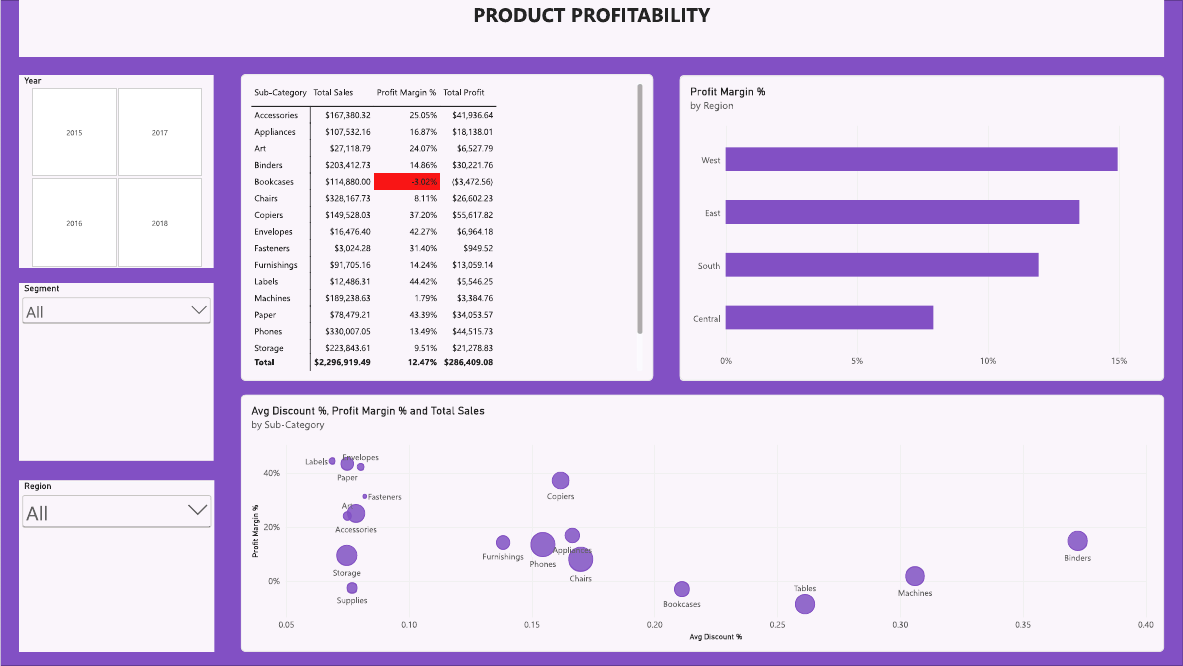

This screenshot's page, from the dashboard's own definition file:
{"tool":"powerbi","page":{"name":"Product Profitability","canvas":[1920,1080],"ordinal":1},"visuals":[{"type":"shape","box":[0,0,1920,1080],"z":0},{"type":"pivotTable","fields":{"Rows":["Dim_Product.Sub-Category"],"Values":["Fact_Orders.Total Sales","Fact_Orders.Profit Margin %","Fact_Orders.Total Profit"]},"box":[390,120,670,496.7],"z":1000},{"type":"scatterChart","fields":{"Category":["Dim_Product.Sub-Category"],"Size":["Fact_Orders.Total Sales"],"X":["Fact_Orders.Avg Discount %"],"Y":["Fact_Orders.Profit Margin %"]},"box":[390,640,1500,416.7],"z":2000},{"type":"clusteredBarChart","fields":{"Category":["Fact_Orders.Region"],"Y":["Fact_Orders.Profit Margin %"]},"box":[1102.8,121.5,786.8,495.2],"z":3000},{"type":"slicer","fields":{"Values":["Dim_Date.Year"]},"box":[30.4,121.5,315.9,312.9],"z":4000},{"type":"slicer","fields":{"Values":["Fact_Orders.Region"]},"box":[30,780,316.7,276.7],"z":5000},{"type":"slicer","fields":{"Values":["Dim_Customer.Segment"]},"box":[30.4,458.7,315.9,288.6],"z":6000},{"type":"textbox","box":[30,0,1860,90],"z":7000}]}

Visuals, with their boxes in screenshot pixels (x1, y1, x2, y2), scaled from the page's 1920x1080 canvas onto the 1183x666 screenshot:
shape: [0,0,1182,665]
pivotTable - Dim_Product.Sub-Category x Fact_Orders.Total Sales: [240,74,653,380]
scatterChart - Dim_Product.Sub-Category x Fact_Orders.Total Sales: [240,395,1165,652]
clusteredBarChart - Fact_Orders.Region x Fact_Orders.Profit Margin %: [679,75,1164,380]
slicer - Dim_Date.Year: [19,75,213,268]
slicer - Fact_Orders.Region: [18,481,214,652]
slicer - Dim_Customer.Segment: [19,283,213,461]
textbox: [18,0,1165,56]
